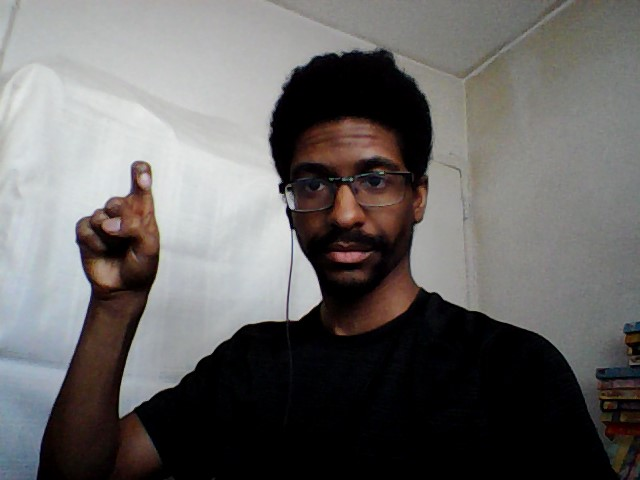x: (71, 157, 165, 298)
